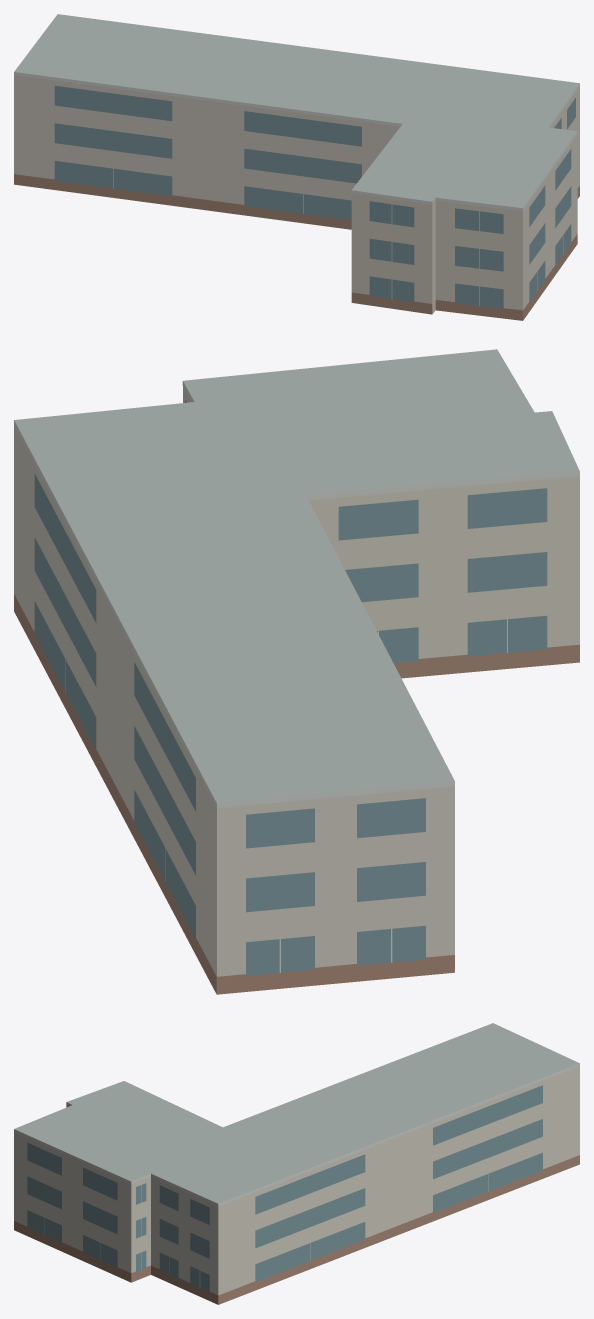
File: survey-upis-32689594.glb
The picture shows the model from 3 angles, top to bottom: view 1: azimuth 30°, elevation 25°; view 2: azimuth 150°, elevation 25°; view 3: azimuth 270°, elevation 25°; orthographic projection. The views are drawn at different scales.
Parts seen in each view (by area): view 1: survey-upis-32689594.tmp; view 2: survey-upis-32689594.tmp; view 3: survey-upis-32689594.tmp.
Boxes of the visible parts, x1,y1,x2,y2 form: survey-upis-32689594.tmp: (14, 14, 579, 320); survey-upis-32689594.tmp: (14, 349, 579, 994); survey-upis-32689594.tmp: (14, 1023, 579, 1304).
Bounding box in the file's own units: 35.08 × 9.15 × 46.41.
